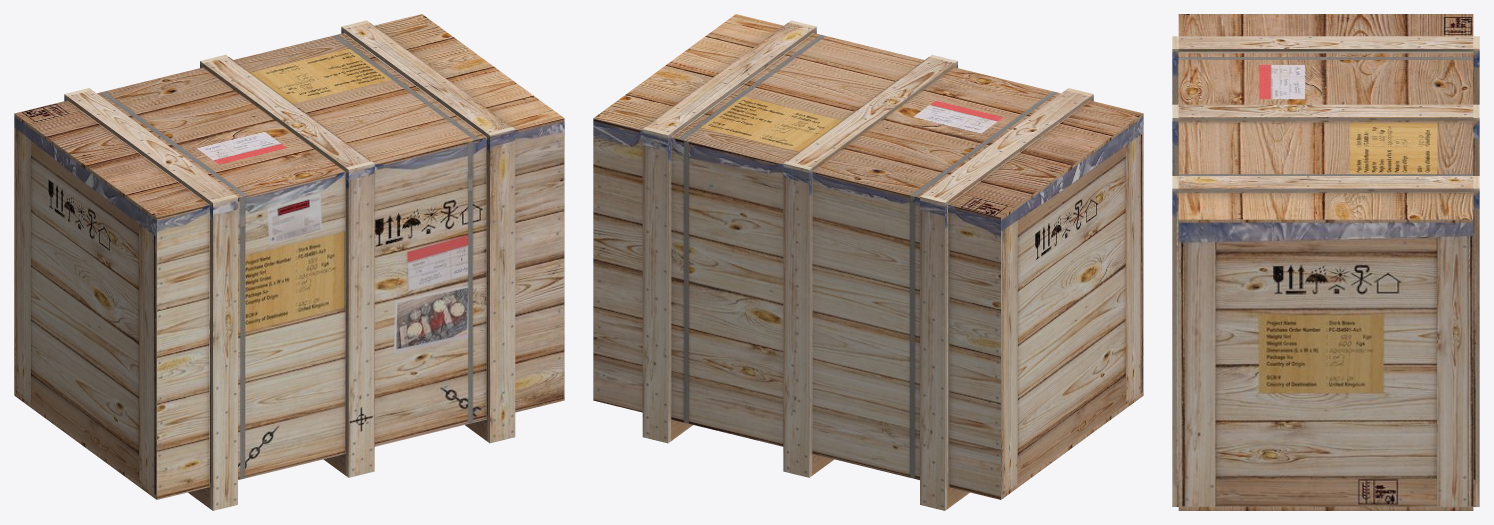
File: crate.dae
3 renders of one model, left to right at view 1: azimuth 30°, elevation 25°; view 2: azimuth 150°, elevation 25°; view 3: azimuth 270°, elevation 25°, orthographic. The views are drawn at different scales.
Parts seen in each view (by area): view 1: Crate_1, Crate_lid; view 2: Crate_1, Crate_lid; view 3: Crate_1, Crate_lid.
Part boxes in pixels (box(x1,y1,x2,y2)): Crate_1: box(14, 117, 564, 510); Crate_lid: box(14, 14, 564, 222); Crate_1: box(593, 117, 1143, 510); Crate_lid: box(593, 14, 1143, 220); Crate_1: box(1172, 56, 1479, 510); Crate_lid: box(1172, 14, 1479, 224).
Size of the model in its own units: 1.76 by 1.11 by 1.27.
3 materials, 3 textured.
